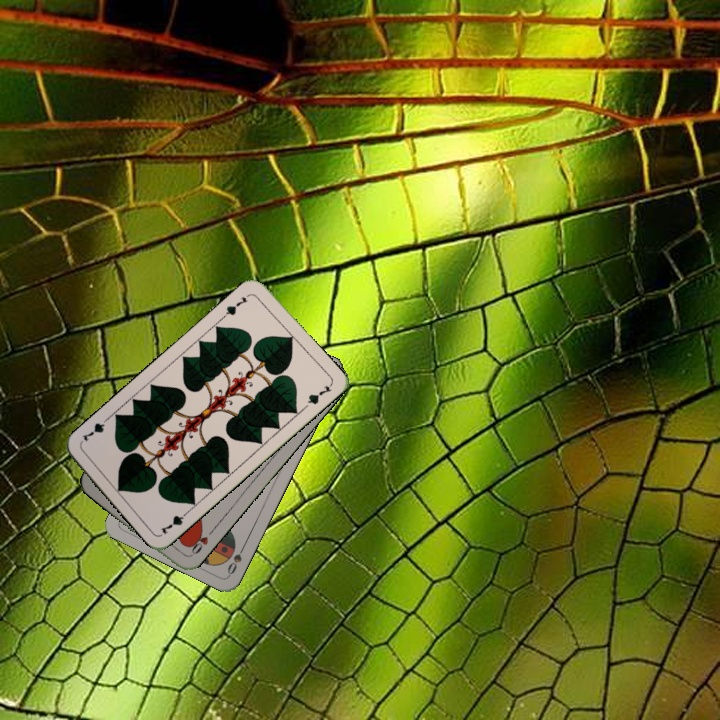G7: (156, 506, 192, 537), (219, 290, 253, 320)
HO: (184, 525, 216, 559)
SO: (223, 540, 248, 577)
